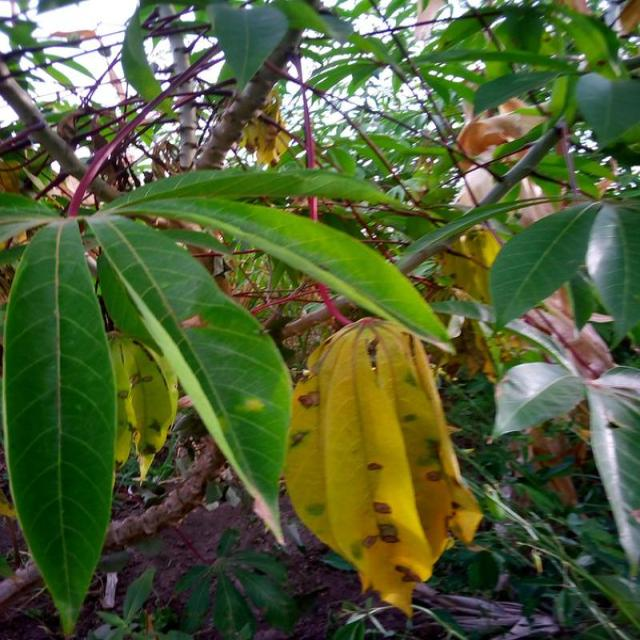cassava leaf: (86, 210, 294, 547), (282, 314, 483, 618), (1, 216, 117, 634)
